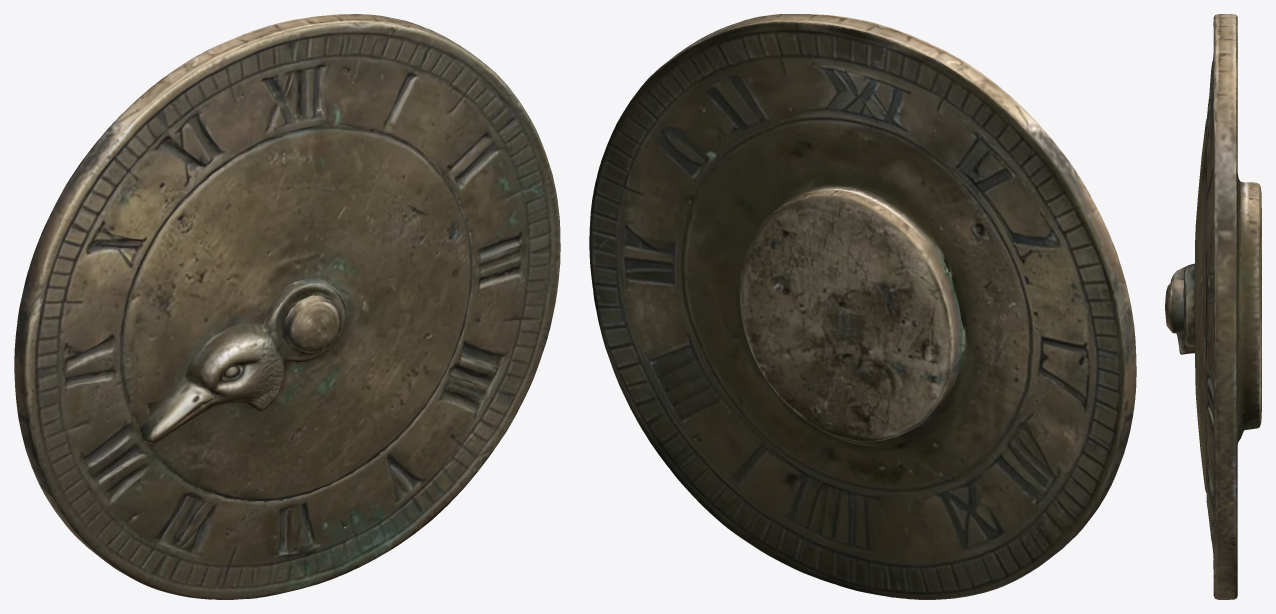
File: obj_basement_dial_1_body.glb
3 renders of one model, left to right at view 1: azimuth 30°, elevation 25°; view 2: azimuth 150°, elevation 25°; view 3: azimuth 270°, elevation 25°, orthographic. The views are drawn at different scales.
Visible parts, largest first — view 1: geometry_0; view 2: geometry_0; view 3: geometry_0.
Part boxes in pixels (x1=…): geometry_0: x1=14, y1=14, x2=560, y2=599; geometry_0: x1=589, y1=14, x2=1136, y2=599; geometry_0: x1=1165, y1=14, x2=1261, y2=599.
Size of the model in its own units: 0.2999 by 0.3 by 0.0501.
1 material, 1 textured.
